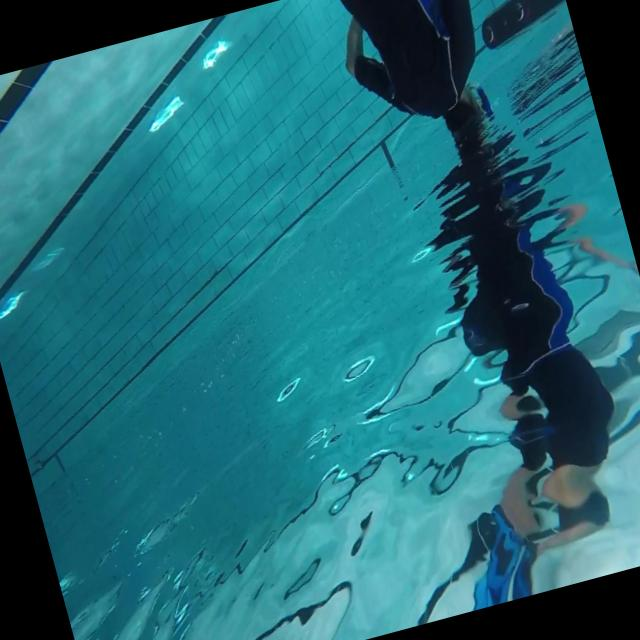human: (324, 0, 515, 181)
